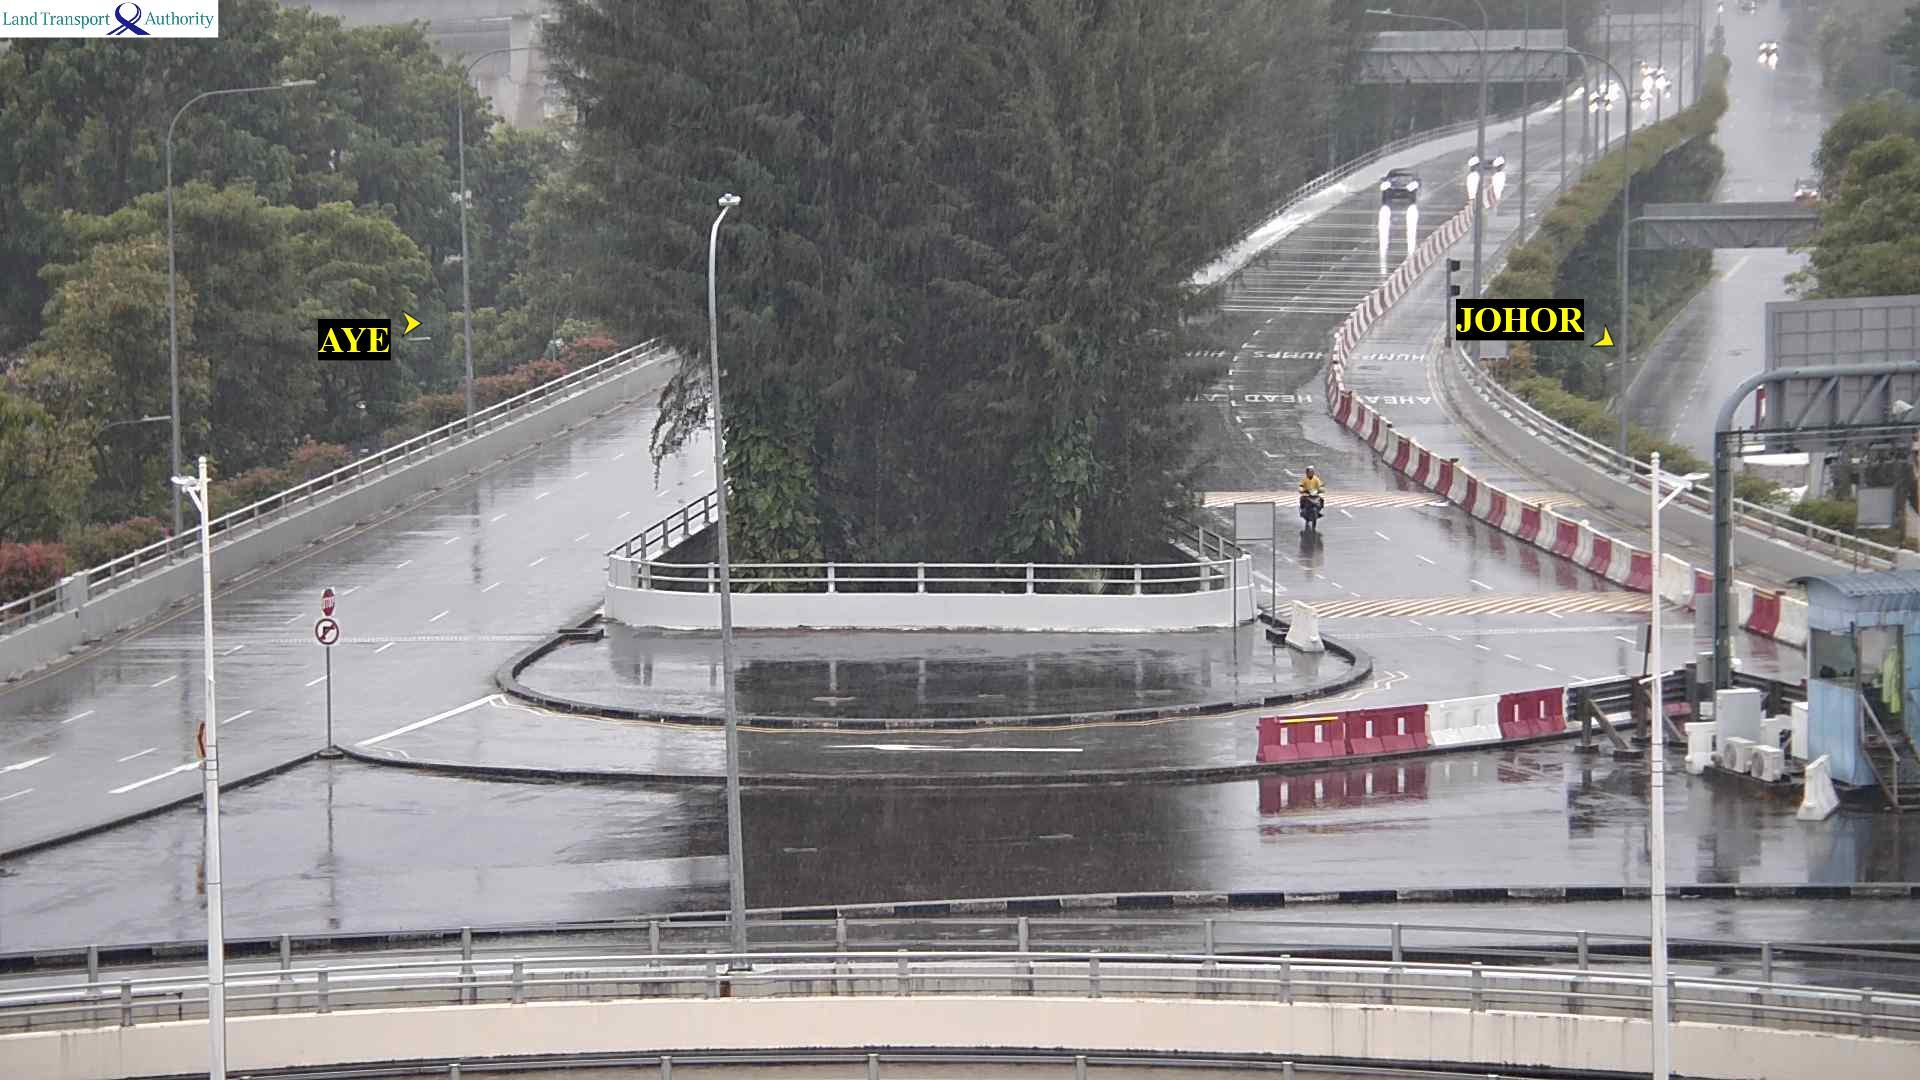vehicle-secondlink-johor: (1294, 465, 1329, 526), (1385, 170, 1420, 200), (1469, 146, 1511, 170)
